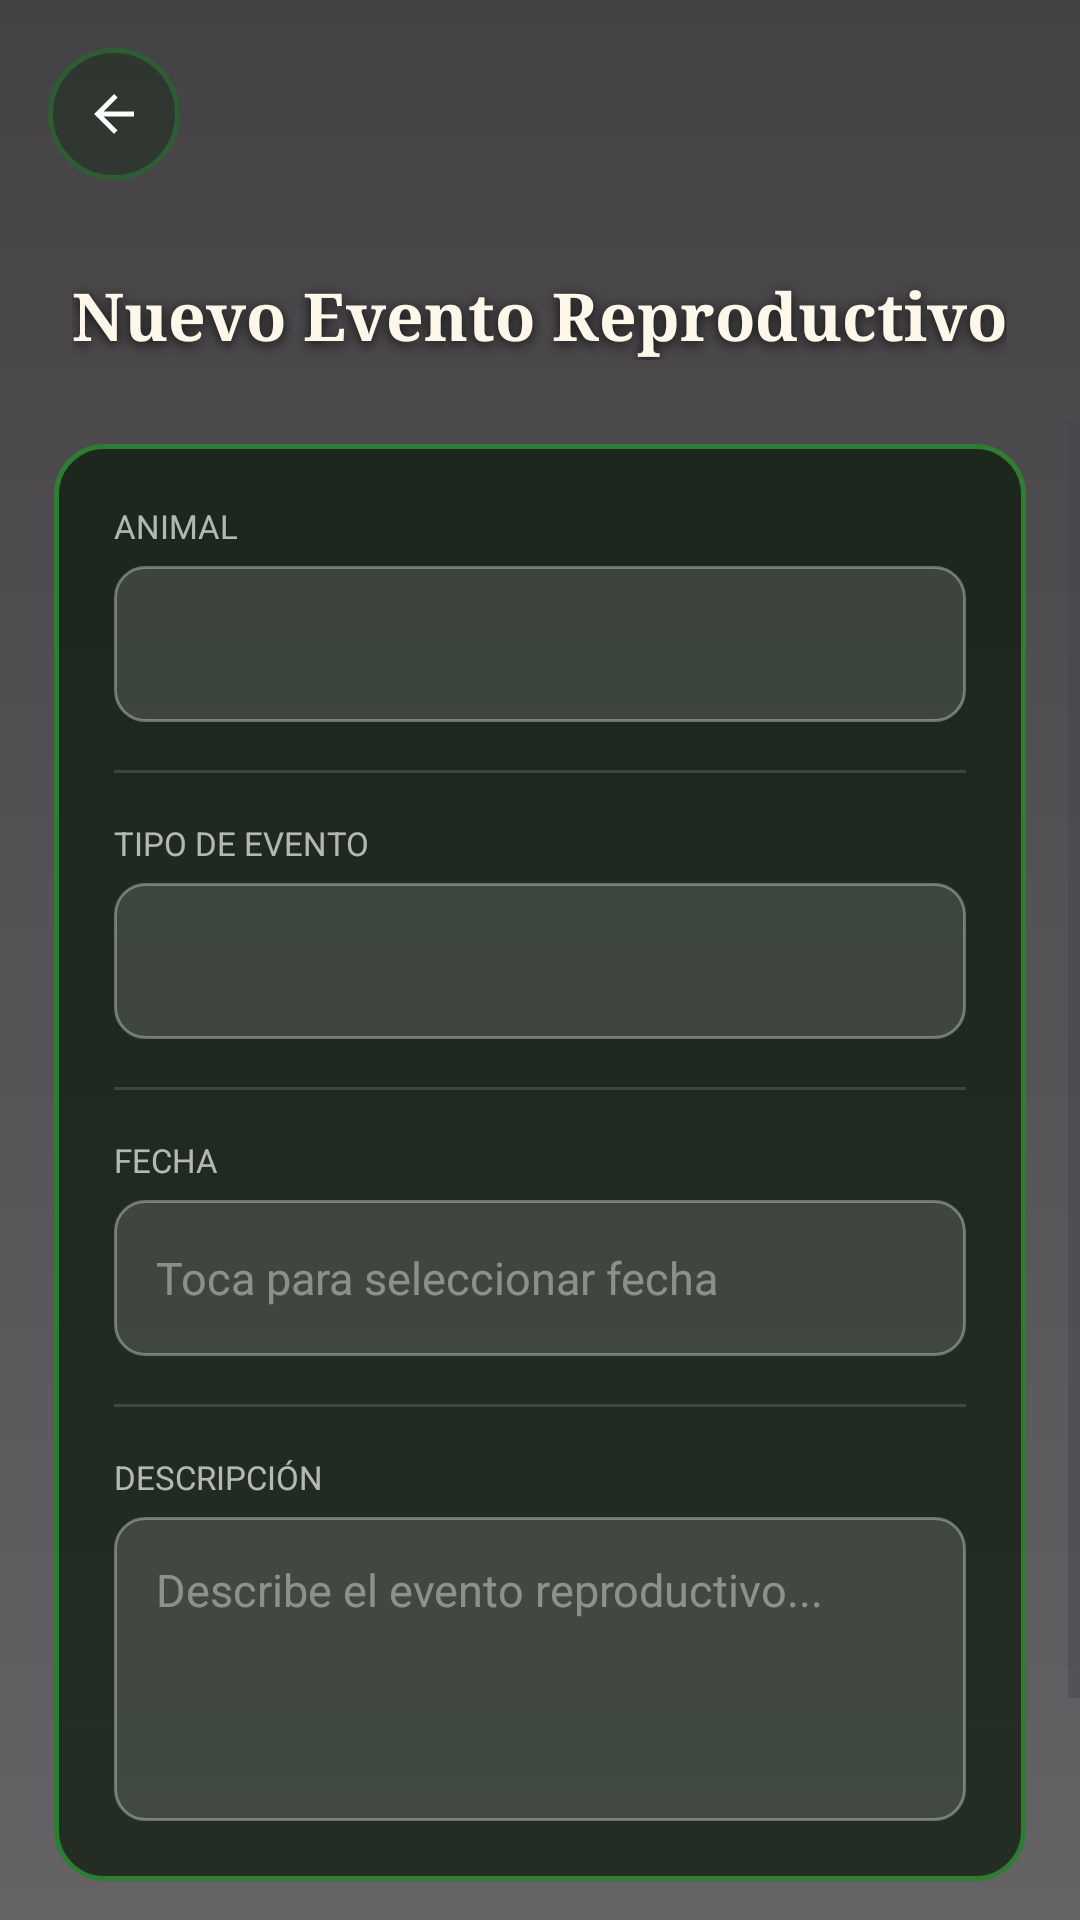

Where to tap for icons on this 1080 x 1920 app screen, as point (x, y):
arrow back: point (114, 114)
